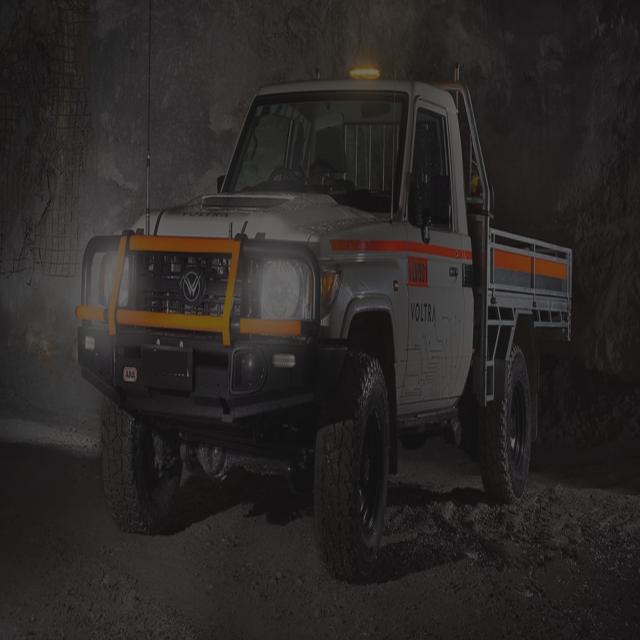light_vehicle: (68, 51, 583, 602)
